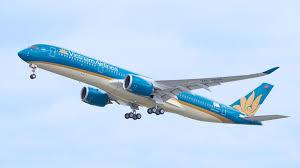maybay_dansu: (21, 38, 285, 129)
